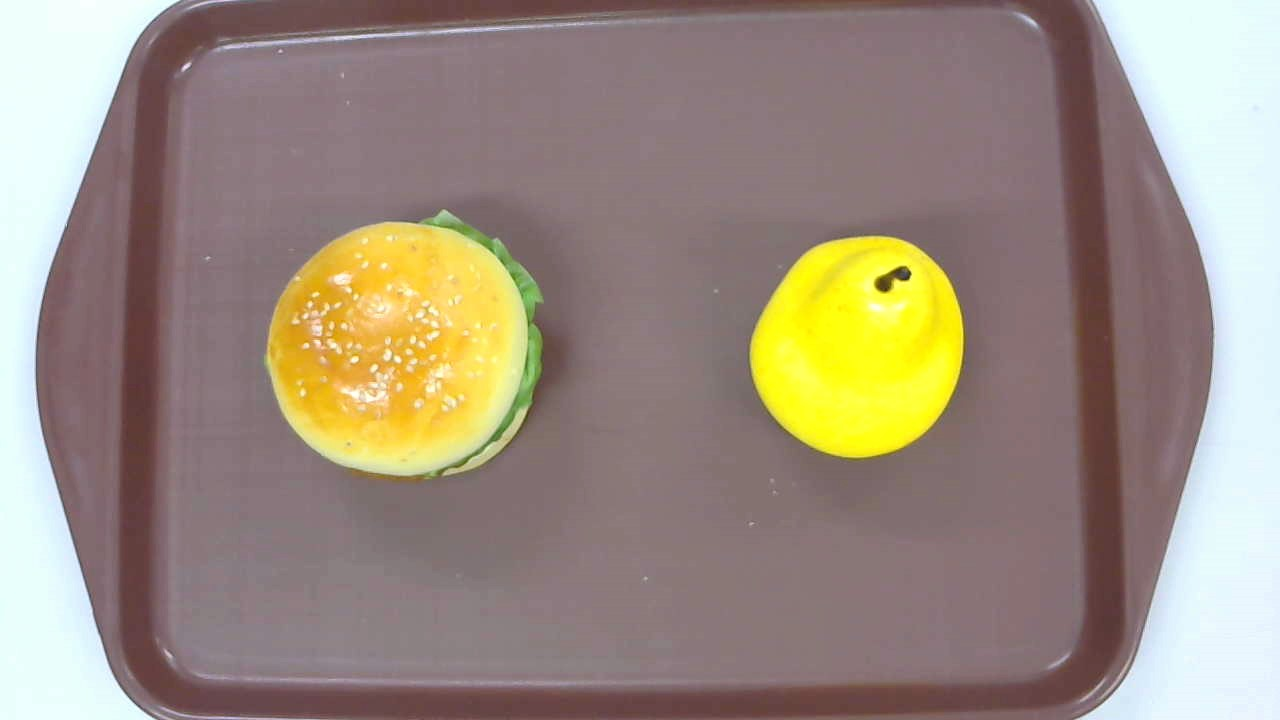hamburger: (264, 209, 544, 481)
yellow pear: (749, 234, 966, 461)
